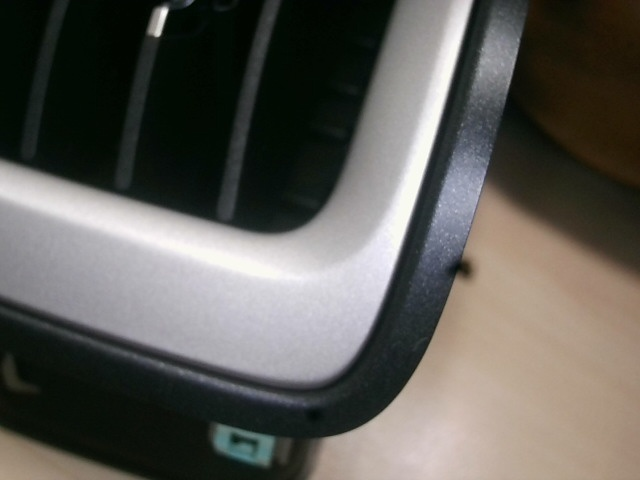NG: (411, 331, 433, 355)
